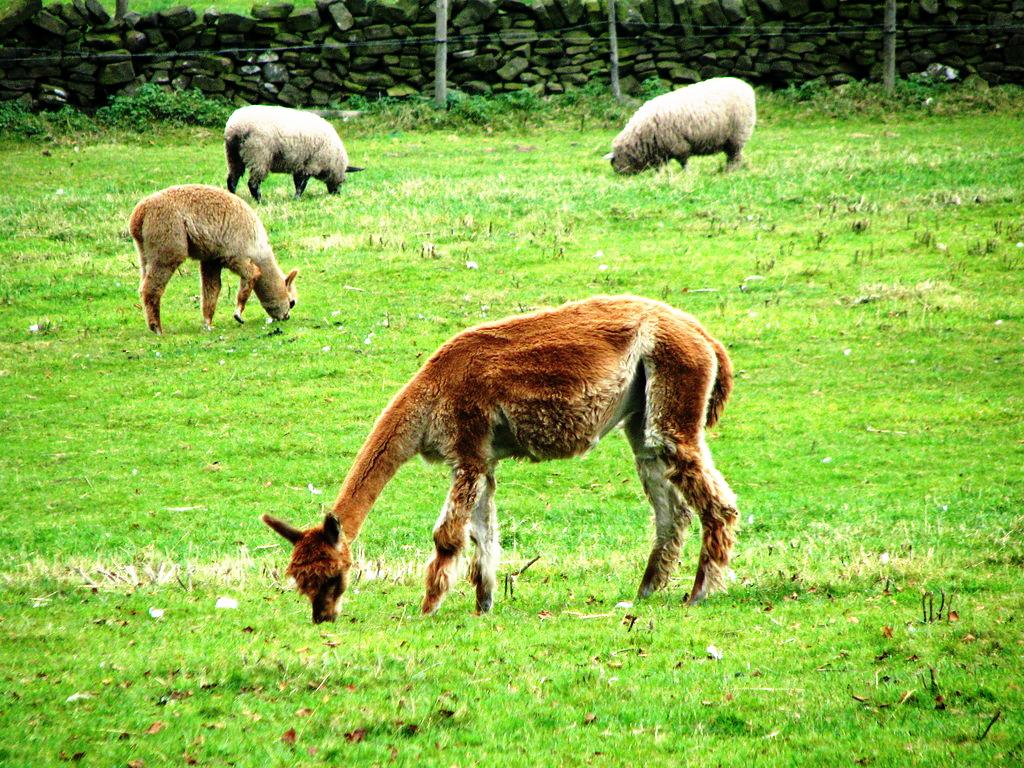Sheep: (608, 77, 759, 175), (228, 104, 364, 208)
